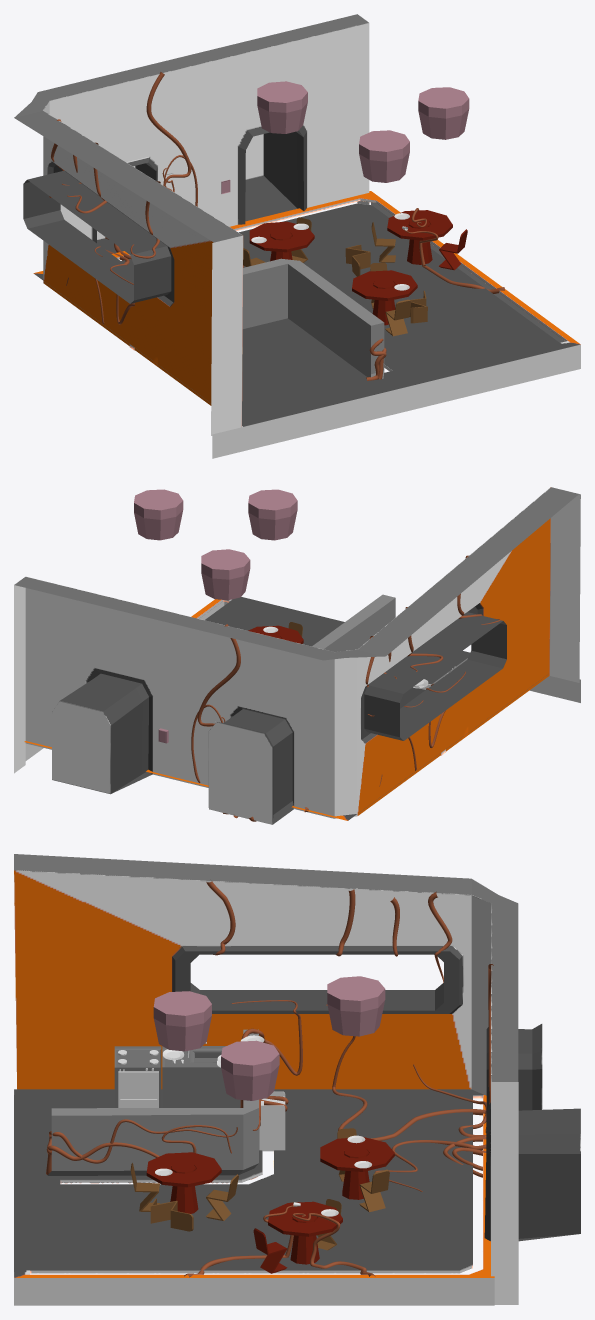
File: Кухня 3.fbx
The picture shows the model from 3 angles, top to bottom: view 1: azimuth 30°, elevation 25°; view 2: azimuth 150°, elevation 25°; view 3: azimuth 270°, elevation 25°; orthographic projection. The views are drawn at different scales.
Parts seen in each view (by area): view 1: Plane, Plane.002, Cube.001, BezierCurve.003, Circle.003, Circle.005, Circle.001, Circle.002, Circle.004, Circle, Plane.008, Plane.005 (+1 smaller); view 2: Plane, Plane.002, Cube.001, Circle.005, Circle.003, Circle.001, BezierCurve.003, Circle.004; view 3: Plane, Plane.002, Cube.001, BezierCurve.003, Cube.007, Circle.005, Circle.003, Circle.001, Circle.004, Circle, Circle.002, Cube.005 (+6 smaller).
Part boxes in pixels (left/top/right/bottom): Plane: left=14, top=14, right=369, bottom=435; Plane.002: left=33, top=191, right=580, bottom=458; Cube.001: left=242, top=258, right=384, bottom=378; BezierCurve.003: left=49, top=72, right=504, bottom=380; Circle.003: left=418, top=87, right=469, bottom=139; Circle.005: left=359, top=130, right=409, bottom=182; Circle.001: left=257, top=81, right=307, bottom=133; Circle.002: left=387, top=210, right=452, bottom=264; Circle.004: left=352, top=270, right=417, bottom=325; Circle: left=249, top=221, right=314, bottom=261; Plane.008: left=385, top=299, right=410, bottom=336; Plane.005: left=439, top=229, right=467, bottom=270; Plane: left=14, top=487, right=580, bottom=824; Plane.002: left=24, top=597, right=580, bottom=820; Cube.001: left=312, top=594, right=430, bottom=708; Circle.005: left=248, top=489, right=297, bottom=540; Circle.003: left=134, top=489, right=183, bottom=540; Circle.001: left=201, top=549, right=250, bottom=600; BezierCurve.003: left=191, top=555, right=500, bottom=821; Circle.004: left=248, top=625, right=303, bottom=643; Plane: left=14, top=854, right=580, bottom=1304; Plane.002: left=14, top=1089, right=494, bottom=1305; Cube.001: left=47, top=1029, right=258, bottom=1175; BezierCurve.003: left=46, top=881, right=493, bottom=1277; Cube.007: left=162, top=1046, right=240, bottom=1107; Circle.005: left=153, top=991, right=211, bottom=1051; Circle.003: left=221, top=1040, right=279, bottom=1100; Circle.001: left=327, top=976, right=385, bottom=1036; Circle.004: left=146, top=1152, right=221, bottom=1213; Circle: left=320, top=1137, right=394, bottom=1199; Circle.002: left=268, top=1201, right=342, bottom=1264; Cube.005: left=118, top=1071, right=158, bottom=1107.
Size of the model in its own units: 45.34 by 25.36 by 52.61.
